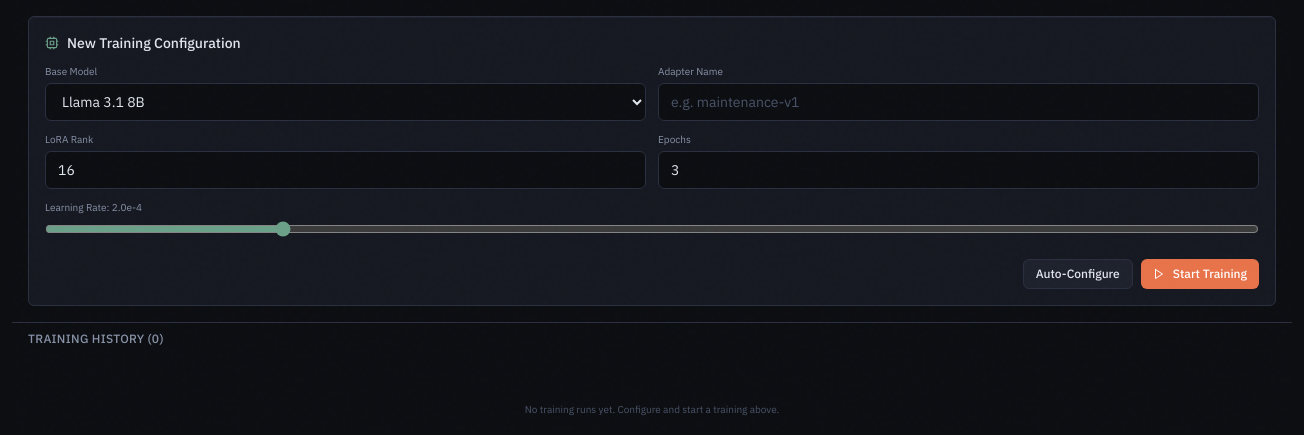
Test: TrainingPanel wiring › configures and starts a training run via the API
Click the button "Start Training": (1200, 274) [1141, 259, 1259, 289]
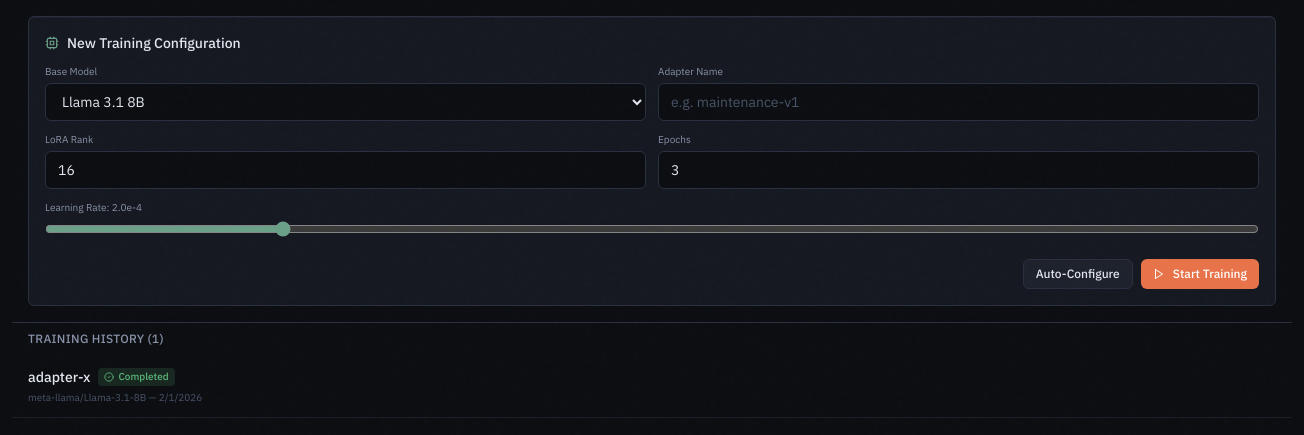
Now the text "adapter-x" is shown, box [28, 367, 90, 387]
